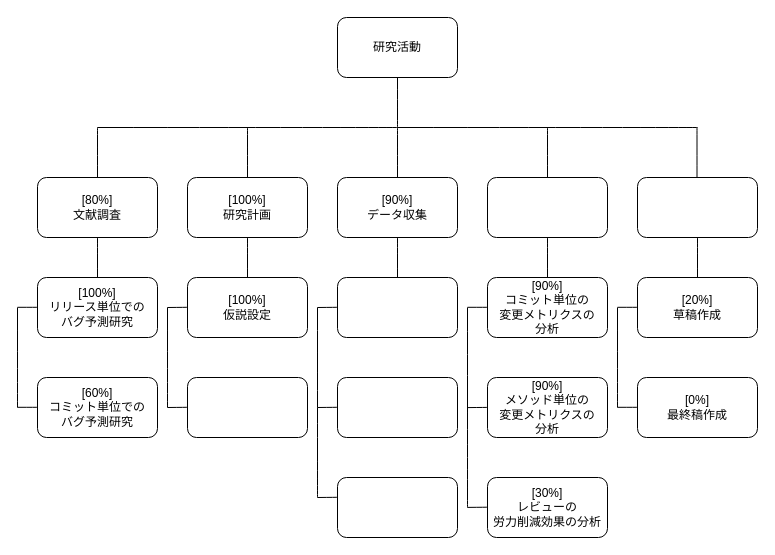
Image size: 775x555. Some labels were removed from this diagram. Each missing label, with the box of its shape:
[10%] 論文執筆: (636, 176, 758, 238)
[100%] データセットの 取得と前処理: (336, 276, 458, 338)
[100%] 実験計画の策定: (186, 376, 308, 438)
[80%] データ分析: (486, 176, 608, 238)
[90%] コミット単位の 変更メトリクスの 収集: (336, 376, 458, 438)
[90%] メソッド単位の 変更メトリクスの 収集: (336, 476, 458, 538)
